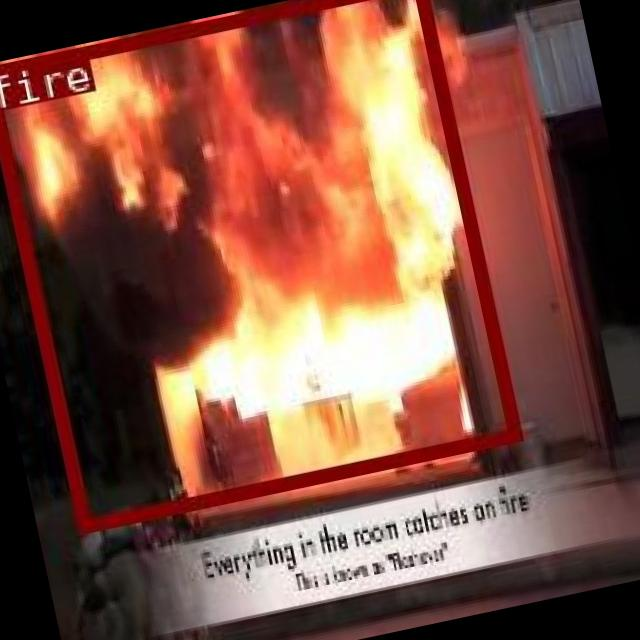fire: (0, 0, 519, 531)
